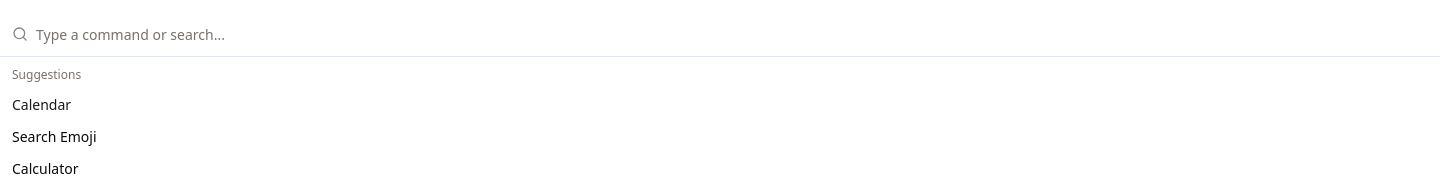
Scenario: <Command /> › should display command items after typing in the input
Type "Cal" into the dropdown with placeholder "Type a command or search..." at (732, 34), box [36, 12, 1428, 56]
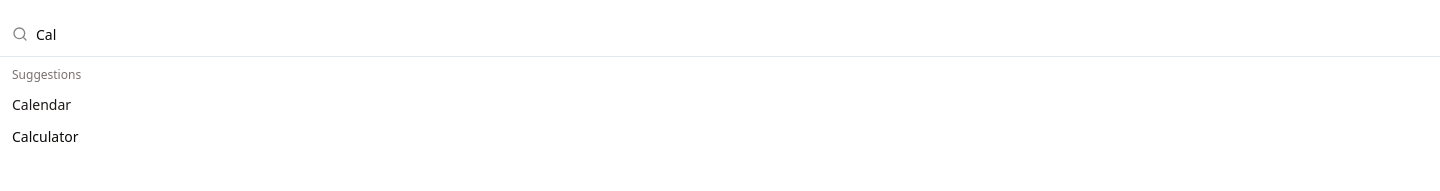
Check: the option "Calendar" is shown, box [12, 95, 71, 114]
Check: the option "Search Emoji" is gone
